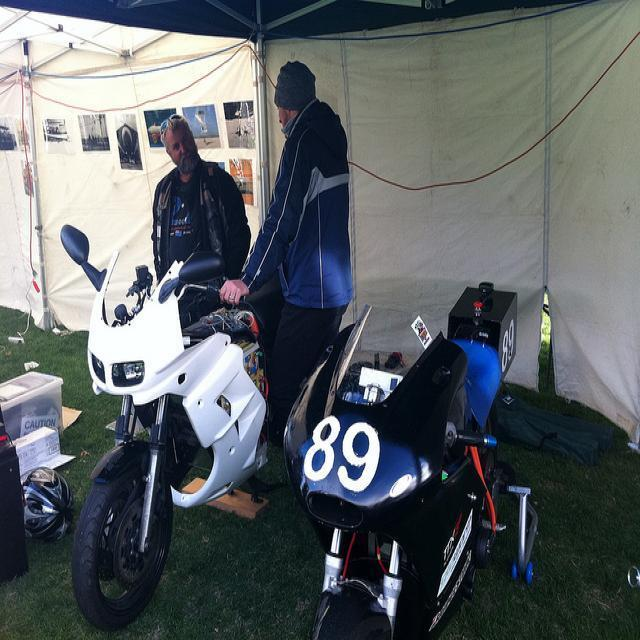motorcycle: (50, 213, 286, 640), (290, 282, 568, 640)
